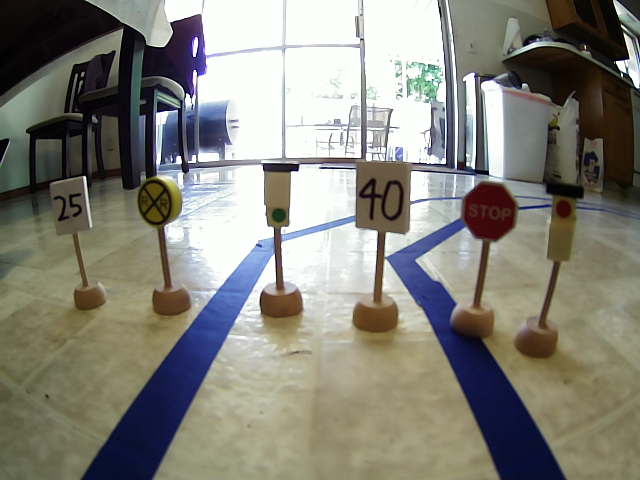25: (47, 176, 95, 232)
40: (354, 160, 417, 237)
green: (257, 159, 305, 230)
rail: (137, 175, 185, 228)
red: (542, 180, 585, 269)
stop: (461, 177, 523, 246)
